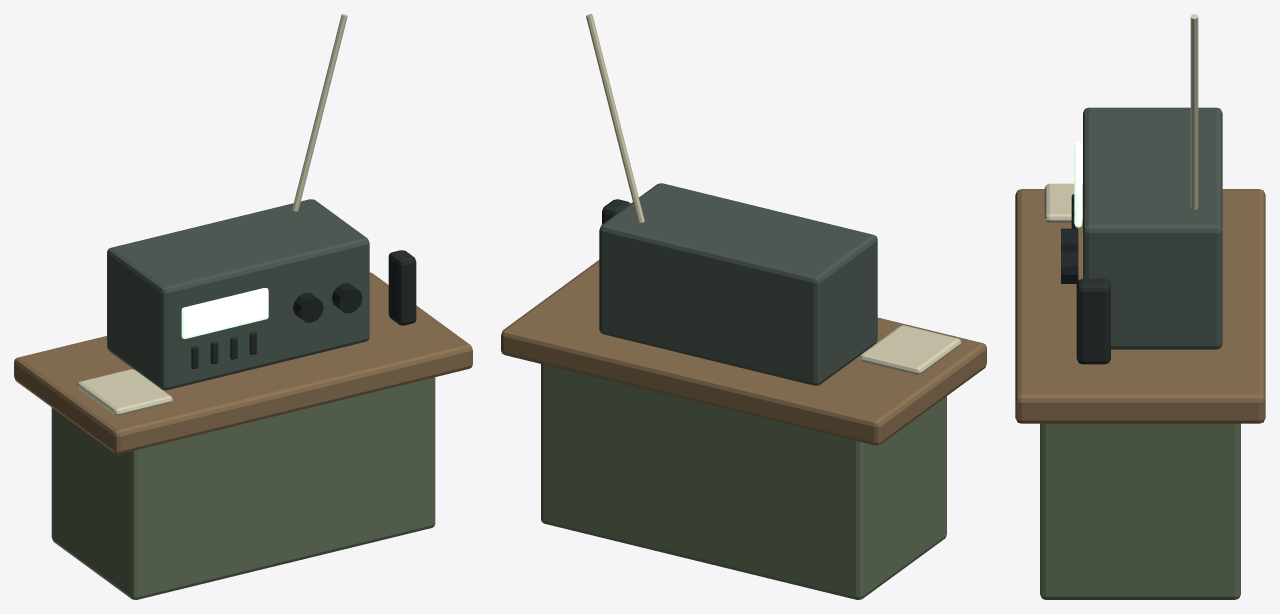
Rendered from radio.glb.
3 renders of one model, left to right at view 1: azimuth 30°, elevation 25°; view 2: azimuth 150°, elevation 25°; view 3: azimuth 270°, elevation 25°, orthographic. The views are drawn at different scales.
Visible parts, largest first — view 1: cabinet, transceiver, desk, radio_display, notebook, microphone, antenna, radio_knob.001, radio_knob; view 2: cabinet, transceiver, desk, notebook, antenna; view 3: cabinet, desk, transceiver, microphone, antenna, notebook, radio_display, radio_knob.001, radio_knob.
Boxes of the visible parts, box(x1,y1,x2,y2) form: cabinet: box(51, 377, 435, 599); transceiver: box(107, 199, 369, 390); desk: box(14, 272, 472, 454); radio_display: box(181, 288, 268, 338); notebook: box(77, 369, 172, 415); microphone: box(388, 250, 416, 325); antenna: box(292, 14, 347, 211); radio_knob.001: box(332, 283, 362, 313); radio_knob: box(293, 292, 323, 322); cabinet: box(541, 364, 946, 599); transceiver: box(599, 183, 877, 385); desk: box(501, 260, 986, 445); notebook: box(860, 325, 961, 374); antenna: box(586, 14, 644, 223); cabinet: box(1040, 423, 1240, 599); desk: box(1015, 189, 1265, 423); transceiver: box(1083, 107, 1222, 349); microphone: box(1076, 278, 1110, 364); antenna: box(1190, 14, 1198, 209); notebook: box(1044, 183, 1082, 222); radio_display: box(1074, 142, 1082, 227); radio_knob.001: box(1061, 251, 1078, 283); radio_knob: box(1061, 228, 1078, 251).
Bounding box in the file's own units: 2.03 × 2.56 × 1.02.
